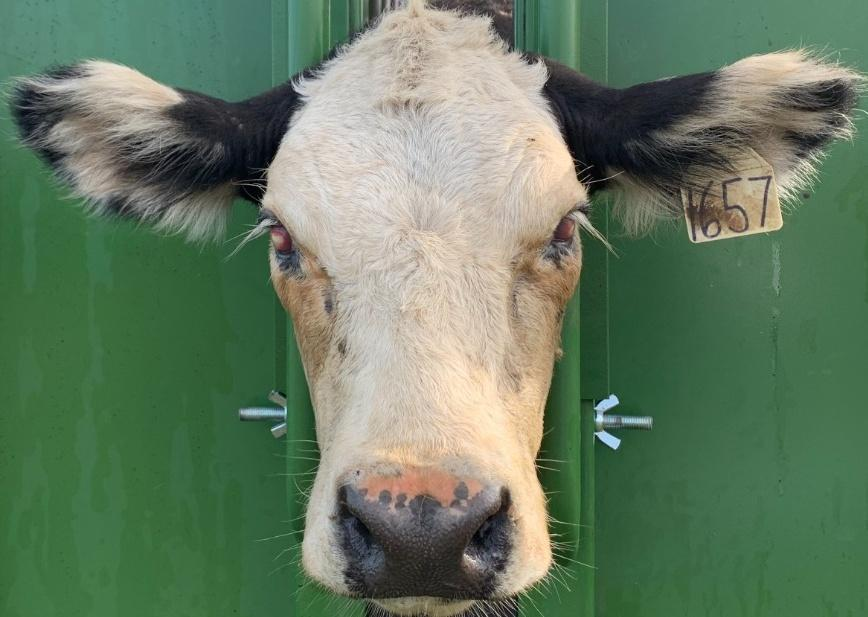muzzles: (294, 454, 561, 617)
